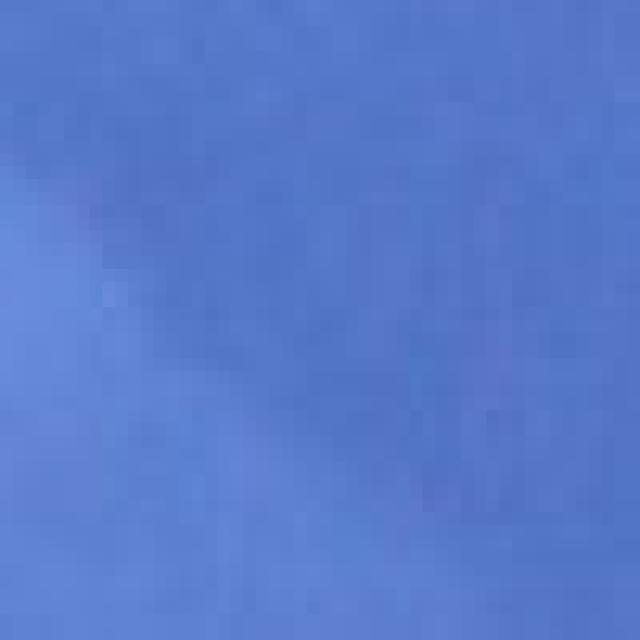no_fire: (0, 12, 640, 602)
